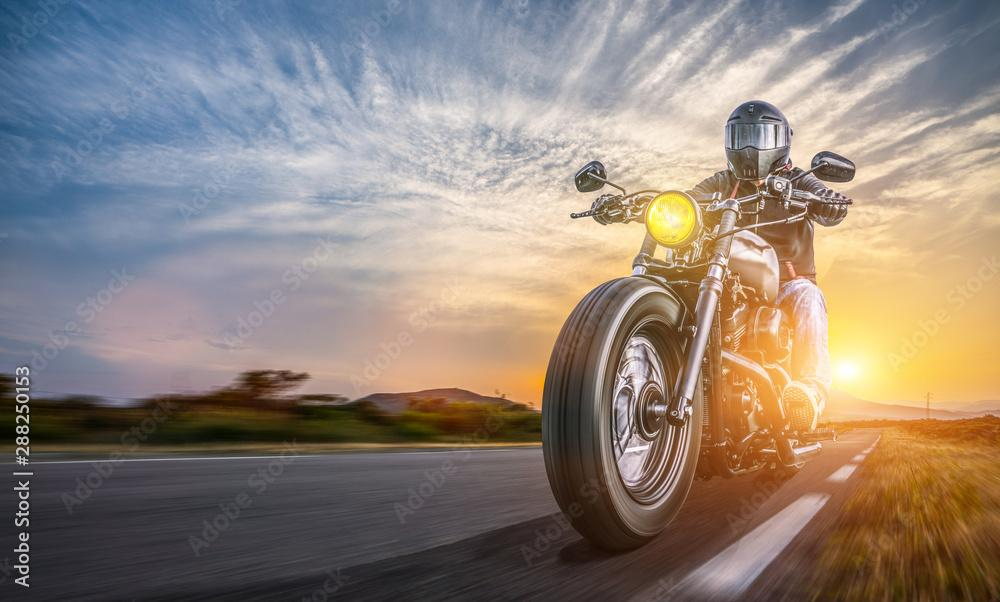helmet: (724, 100, 794, 181)
